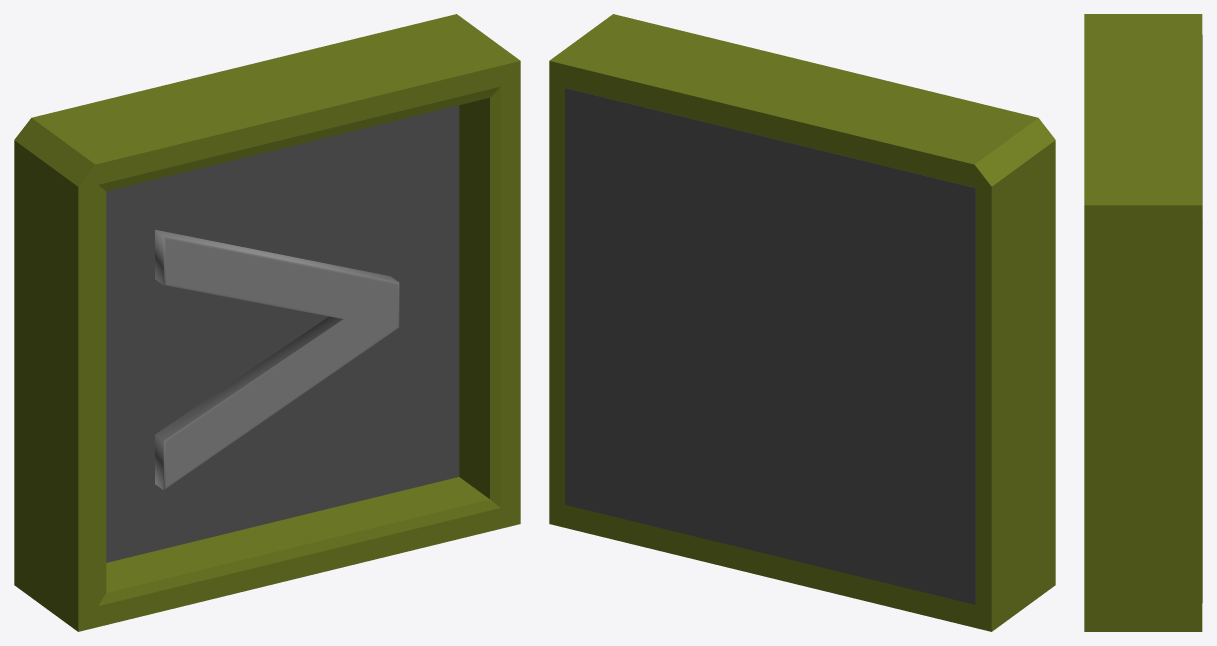
Rendered from buttons_right.glb.
3 renders of one model, left to right at view 1: azimuth 30°, elevation 25°; view 2: azimuth 150°, elevation 25°; view 3: azimuth 270°, elevation 25°, orthographic. The views are drawn at different scales.
Visible parts, largest first — view 1: Right, Cube.012; view 2: Cube.012, Right; view 3: Right, Cube.012.
Part boxes in pixels (x1,y1,x2,y2): Right: (14, 14, 520, 631); Cube.012: (106, 105, 459, 562); Cube.012: (565, 88, 975, 604); Right: (549, 14, 1055, 631); Right: (1084, 14, 1202, 631); Cube.012: (1202, 35, 1202, 602).
Size of the model in its own units: 3.99 by 3.99 by 1.
